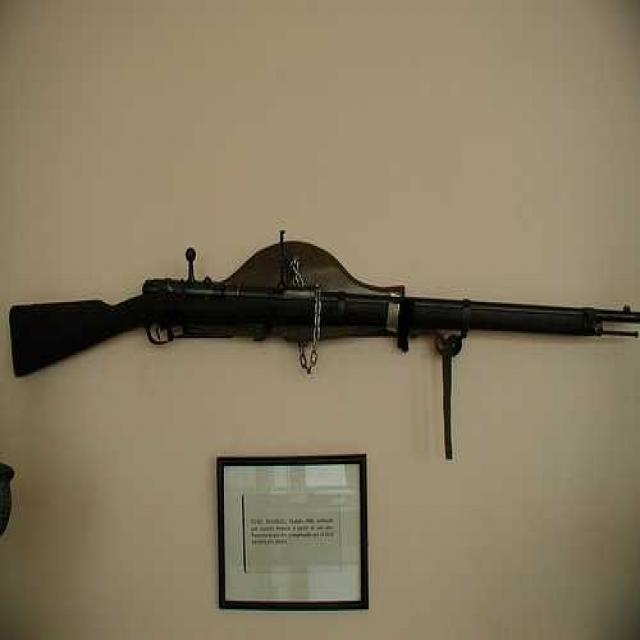weapon: (4, 244, 640, 423)
